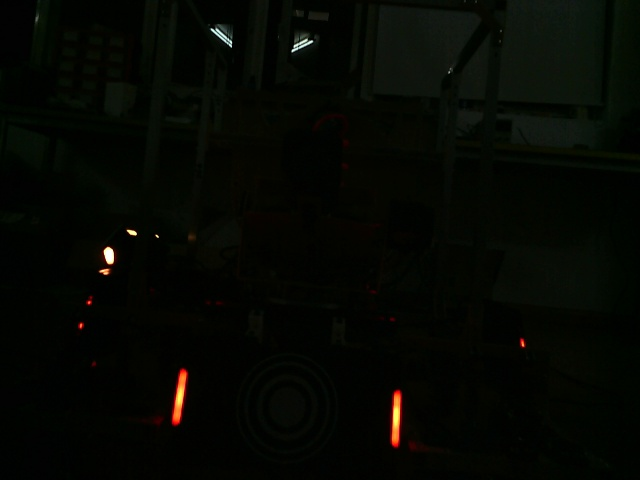lamp: (171, 368, 189, 427), (389, 389, 404, 448)
